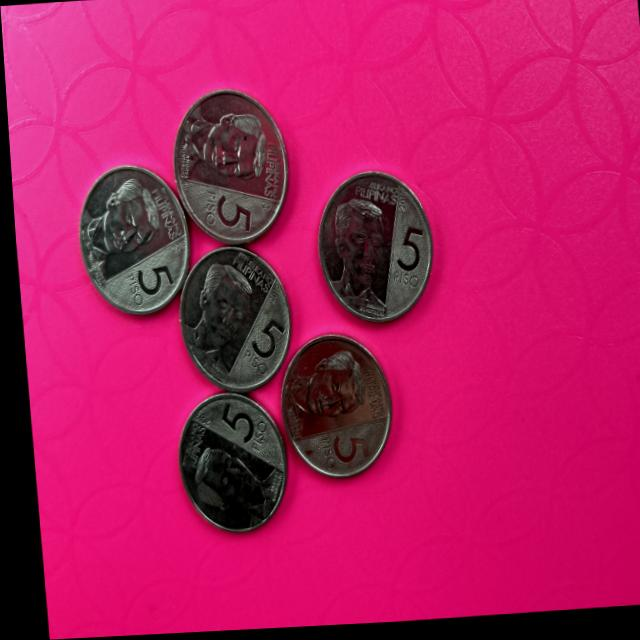5_New_Front: (377, 227, 426, 304), (230, 311, 285, 377), (118, 251, 172, 312), (308, 421, 367, 474), (213, 396, 263, 457), (195, 185, 251, 236)
